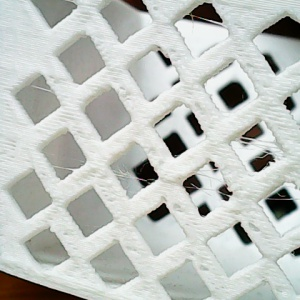3dpstringing: (228, 130, 282, 161), (109, 164, 159, 191), (184, 15, 226, 36), (263, 185, 298, 207), (48, 160, 89, 176), (27, 84, 61, 99)
3dpunderextrusion: (157, 194, 199, 230), (230, 207, 273, 242), (186, 250, 219, 280)
